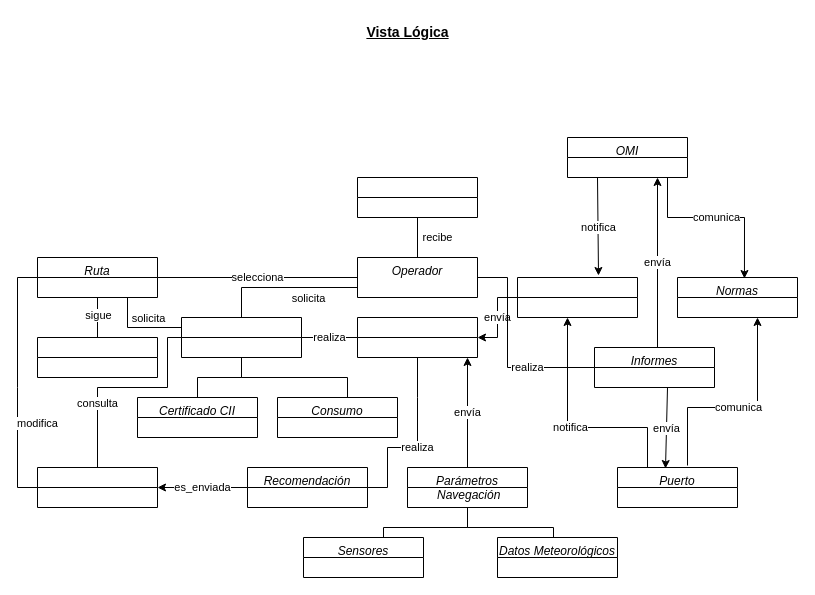
Image size: 815x595. Some labels were removed from this diagram. Here are the shapes that lost their labels. From the top down, the centre of each, then its label:
At point (417, 197): "Contrato".
At point (577, 297): "Avisos".
At point (97, 357): "Buque".
At point (241, 337): "Predicciones".
At point (417, 337): "Plataforma IA".
At point (97, 487): "Capitán".
